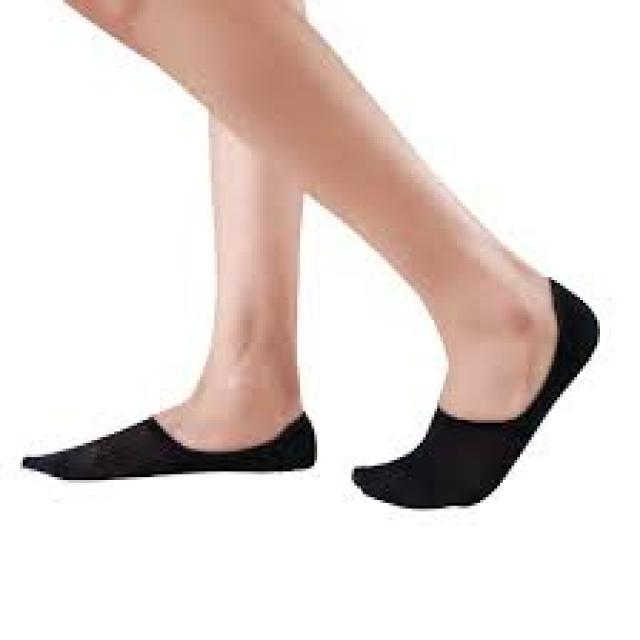sock: (349, 274, 600, 509), (20, 409, 317, 480)
